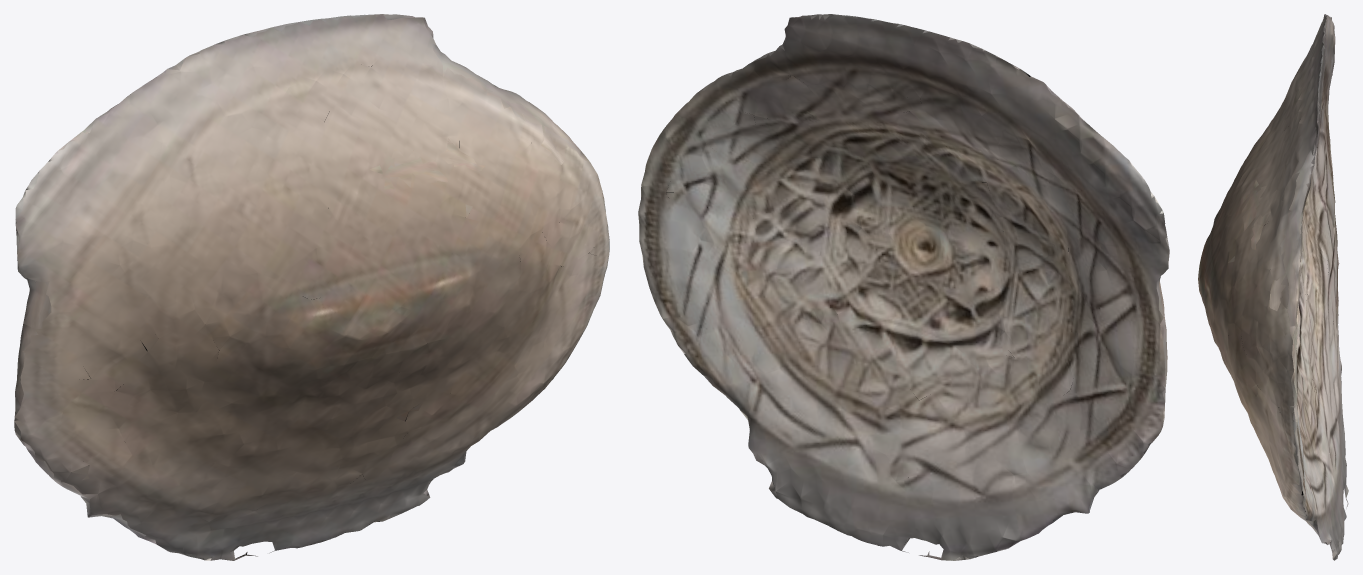
Rendered from 15_48_52_21_moroccan-astrolabe.glb.
3 views of the same model, side by side, from view 1: azimuth 30°, elevation 25°; view 2: azimuth 150°, elevation 25°; view 3: azimuth 270°, elevation 25° (orthographic). The views are drawn at different scales.
Visible parts, largest first — view 1: world; view 2: world; view 3: world.
Boxes of the visible parts, <box> form: world: <box>14,14,609,560</box>; world: <box>638,14,1169,560</box>; world: <box>1198,14,1348,560</box>.
Size of the model in its own units: 0.91 by 0.8171 by 0.2388.
1 material, 1 textured.
